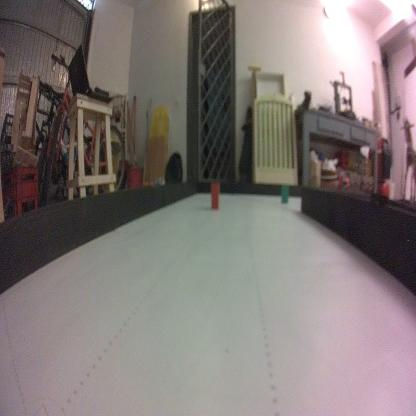green: (280, 182, 289, 205)
red: (210, 182, 220, 210)
